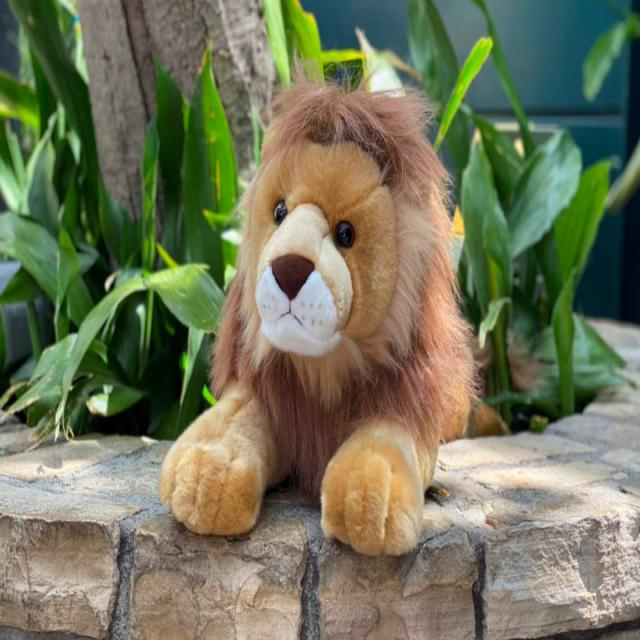Lion: (157, 52, 511, 558)
